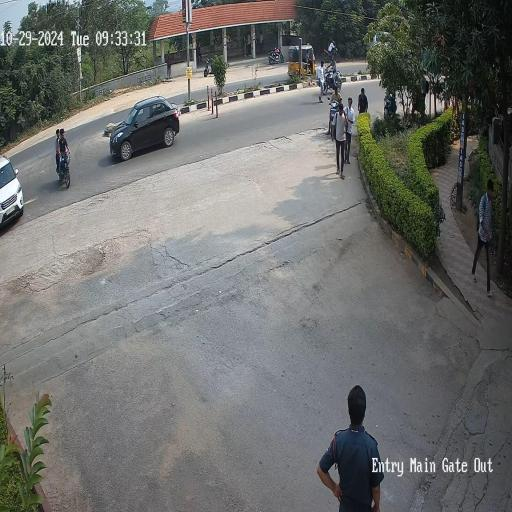triple riding: (54, 127, 72, 186)
